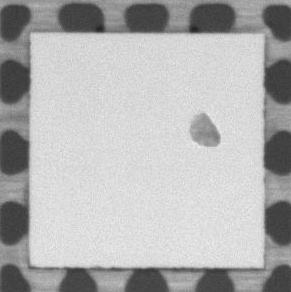DIE_INK: (185, 110, 220, 147)
